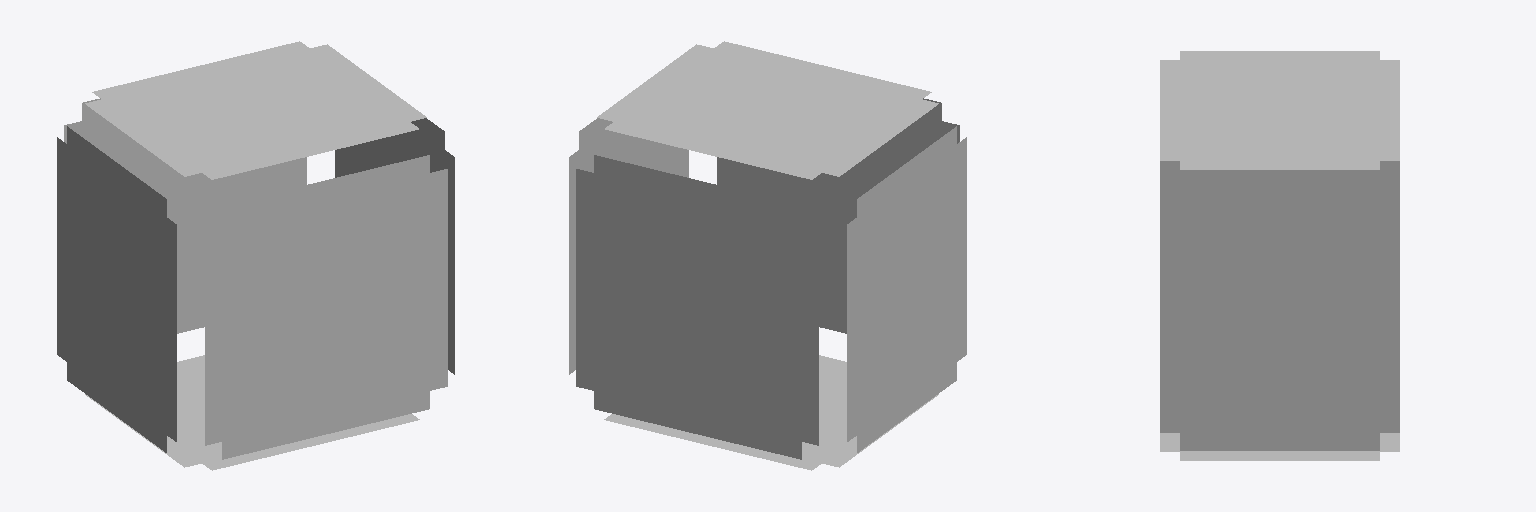
File: reinforced_locker.obj
3 renders of one model, left to right at view 1: azimuth 30°, elevation 25°; view 2: azimuth 150°, elevation 25°; view 3: azimuth 270°, elevation 25°, orthographic.
Parts seen in each view (by area): view 1: reinforced_locker; view 2: reinforced_locker; view 3: reinforced_locker.
Part boxes in pixels (bbox=[...]): reinforced_locker: bbox=[57, 41, 454, 470]; reinforced_locker: bbox=[569, 41, 966, 470]; reinforced_locker: bbox=[1160, 51, 1399, 460].
Bounding box in the file's own units: 1 × 1 × 0.875.